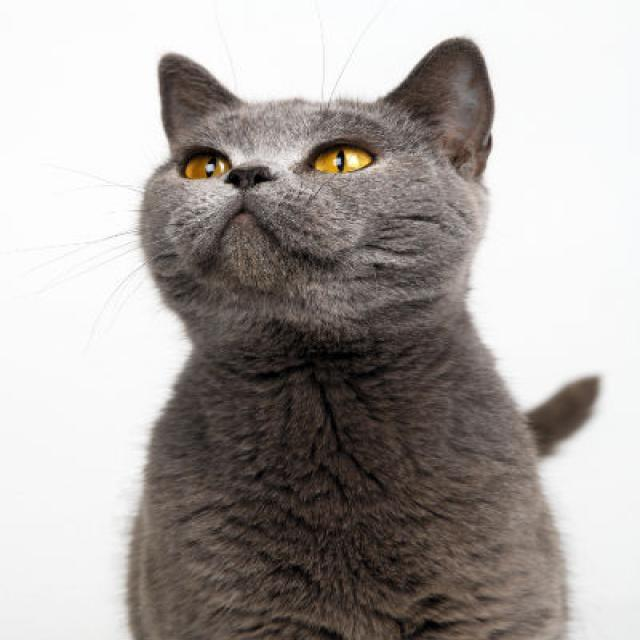British_Shorthair: (132, 31, 504, 345)
